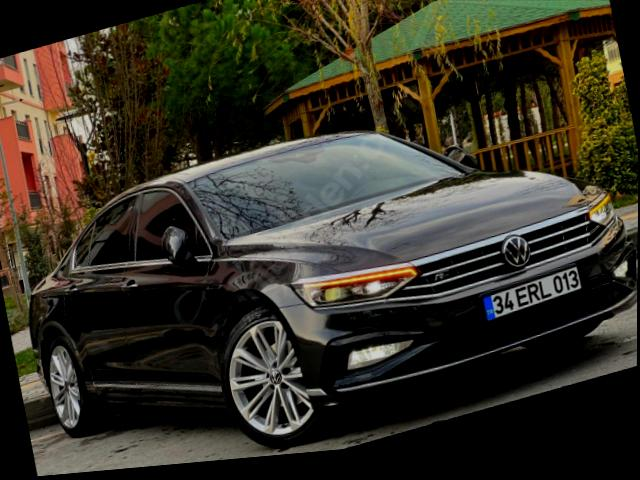plaka: (482, 265, 581, 320)
